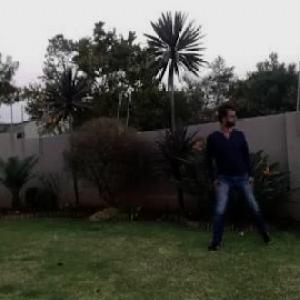follow: (207, 94, 252, 254)
